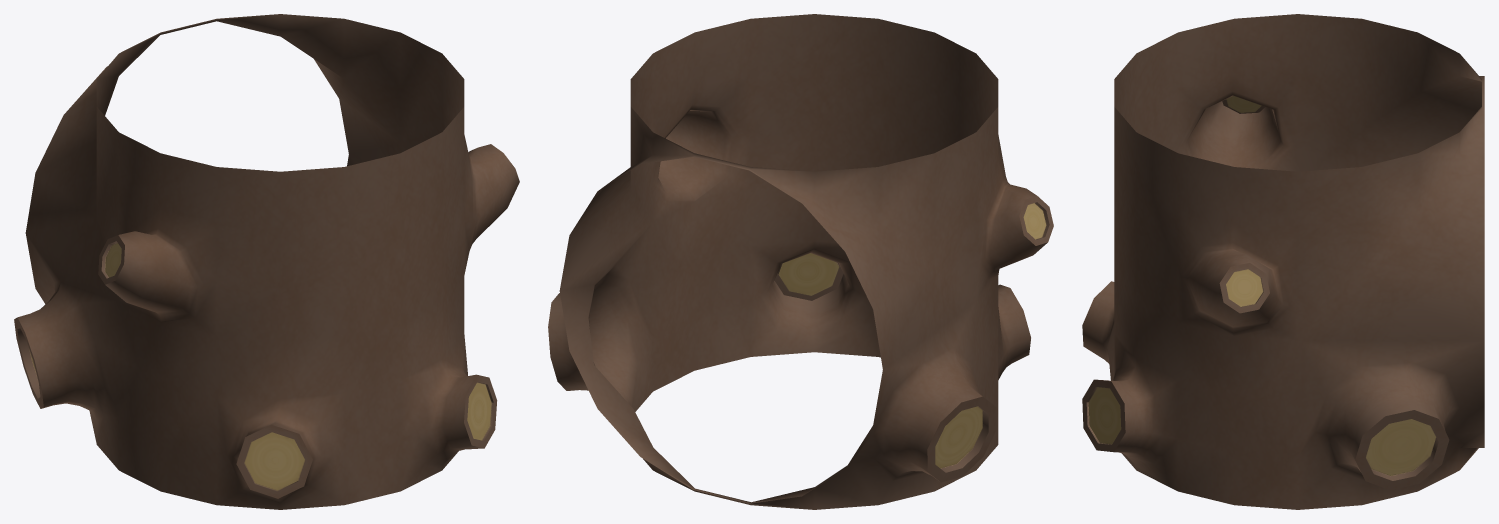
File: 3WAY_WOOD.fbx
3 views of the same model, side by side, from view 1: azimuth 30°, elevation 25°; view 2: azimuth 150°, elevation 25°; view 3: azimuth 270°, elevation 25° (orthographic).
Parts seen in each view (by area): view 1: 3WAY_WOOD; view 2: 3WAY_WOOD; view 3: 3WAY_WOOD.
Part boxes in pixels (left/top/right/bottom): 3WAY_WOOD: left=14, top=14, right=519, bottom=509; 3WAY_WOOD: left=548, top=14, right=1053, bottom=509; 3WAY_WOOD: left=1082, top=14, right=1484, bottom=509.
Size of the model in its own units: 52.11 by 39.37 by 42.44.
1 material, 1 textured.
